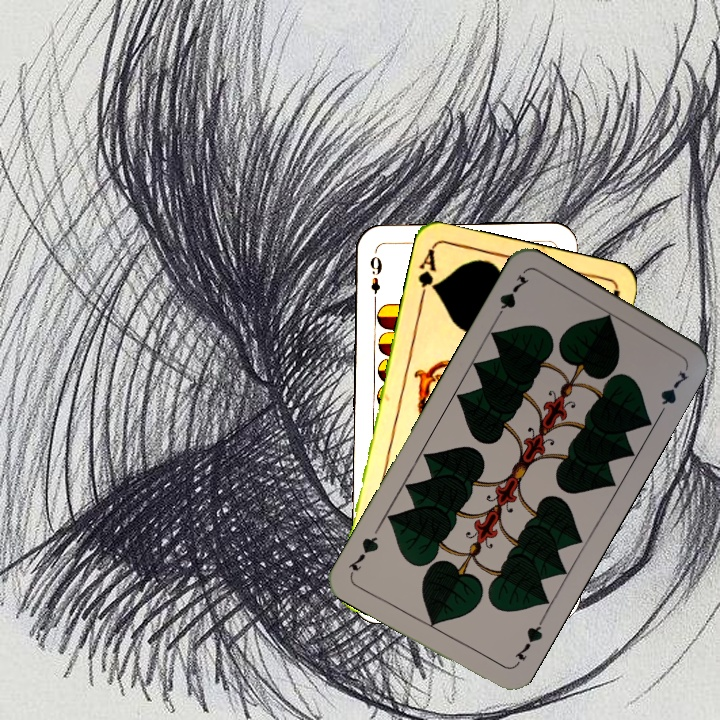E9: (366, 252, 384, 307)
G7: (491, 270, 532, 324), (510, 616, 546, 670)
GA: (414, 245, 440, 304)
